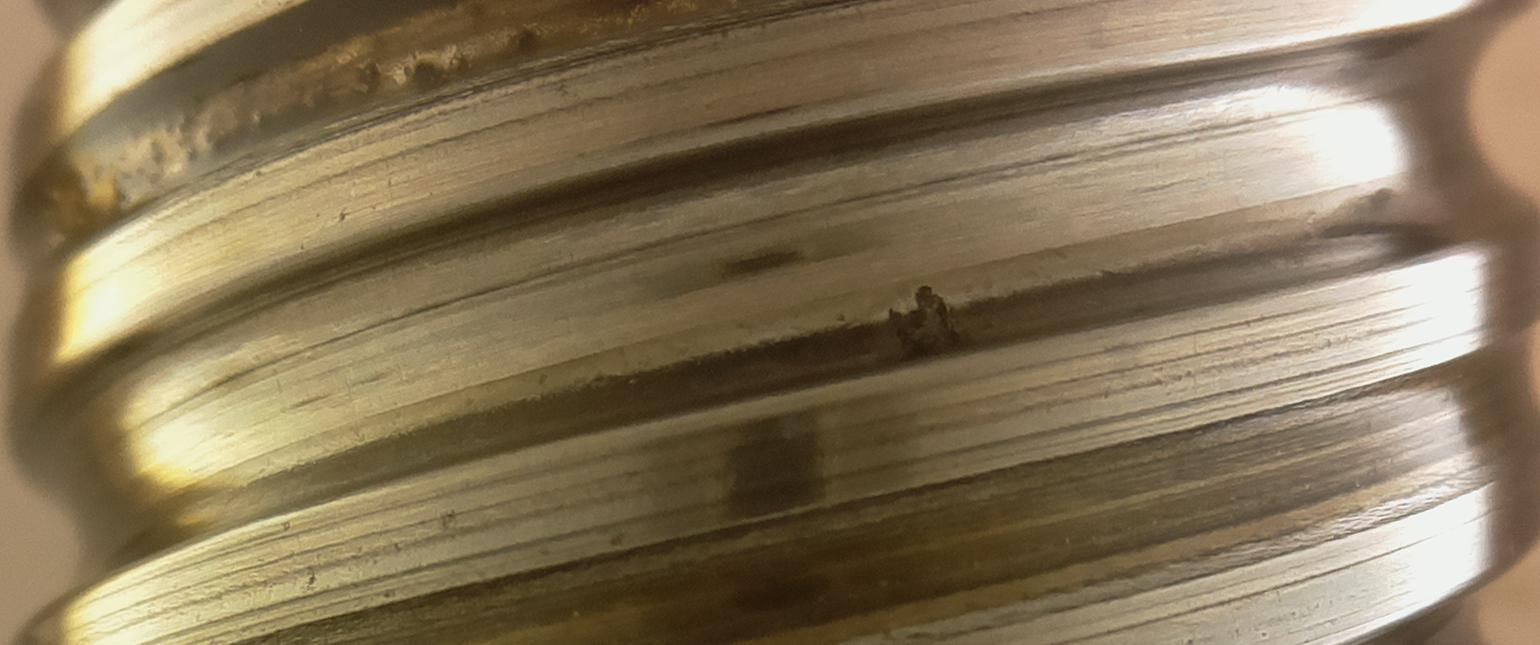pitting: (889, 286, 958, 359)
